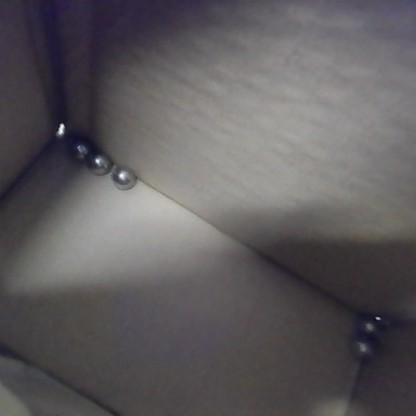ironball: (347, 330, 378, 363), (107, 161, 137, 194), (87, 146, 115, 178), (63, 132, 92, 162), (354, 312, 382, 339)
